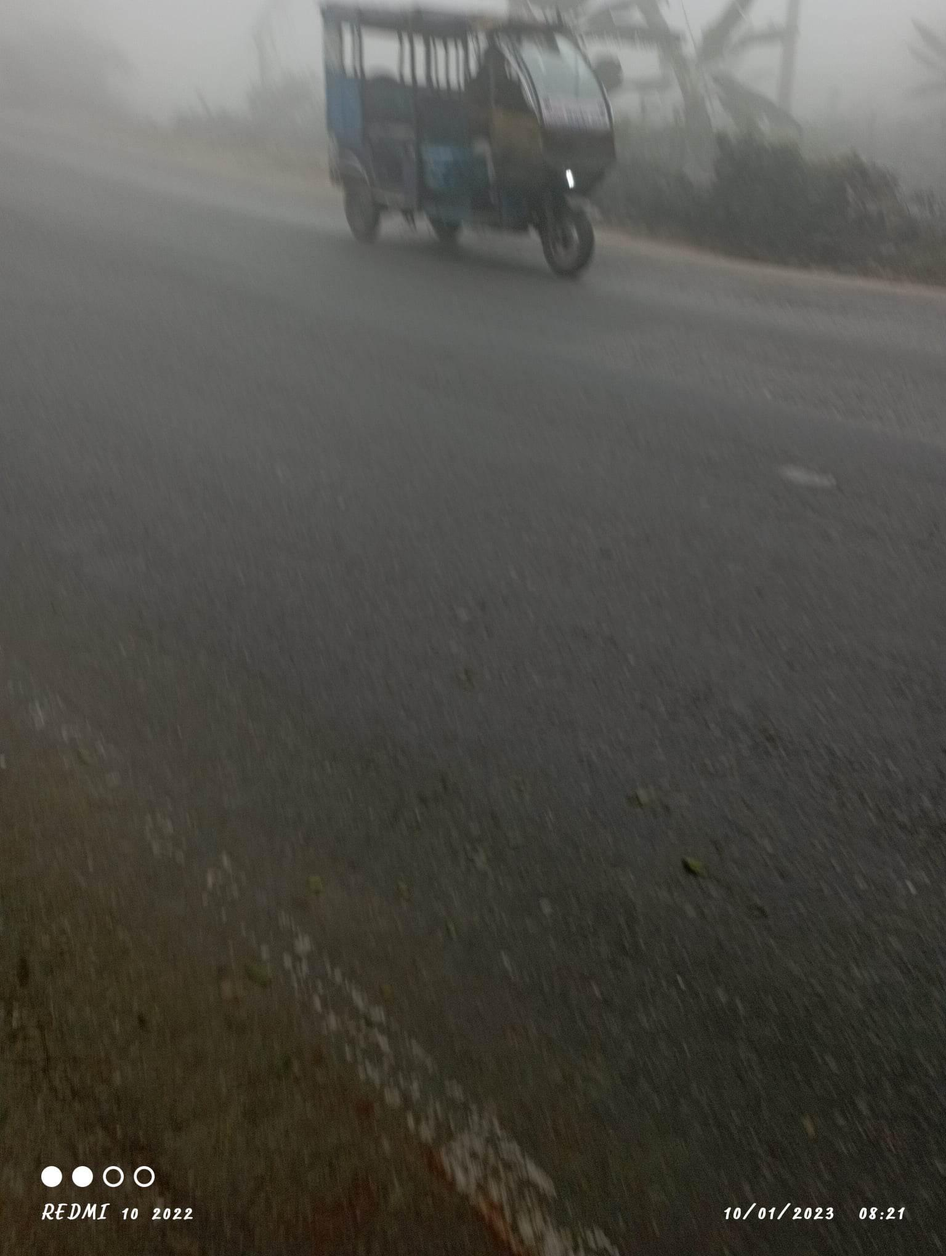Car: (319, 4, 630, 283)
